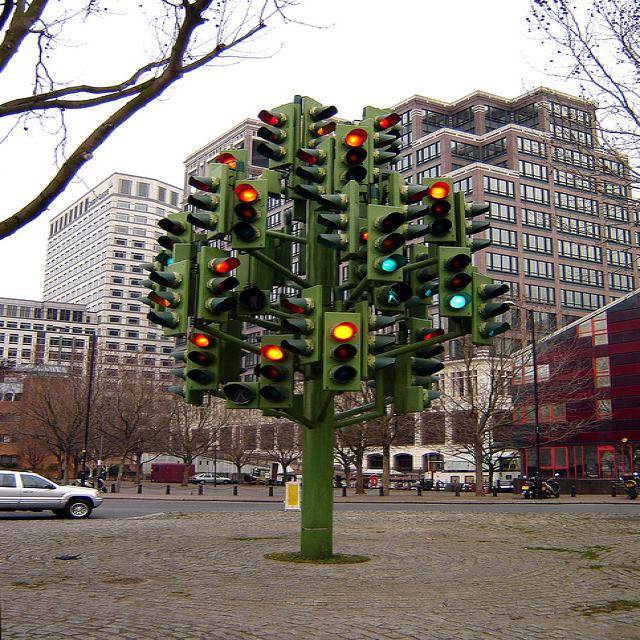motor: (521, 478, 545, 499), (621, 471, 639, 499), (542, 473, 560, 497)
